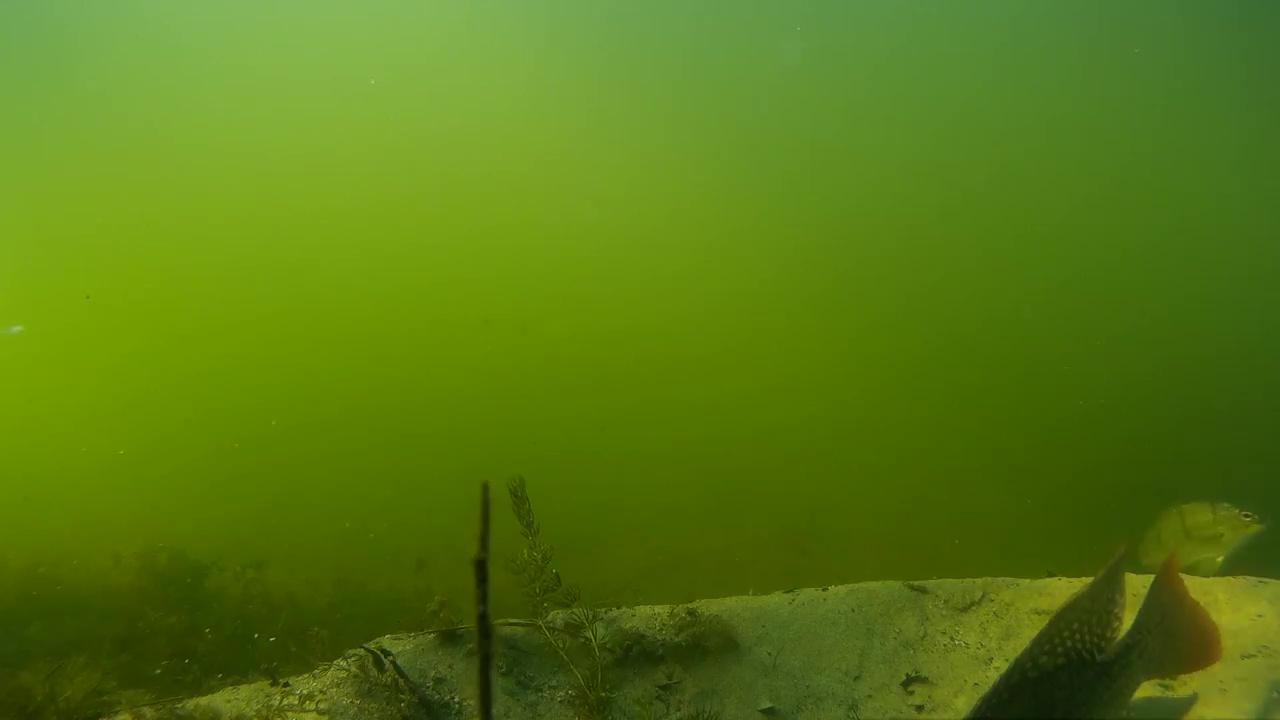Tilapia: (941, 562, 1232, 720), (1139, 474, 1270, 580)
